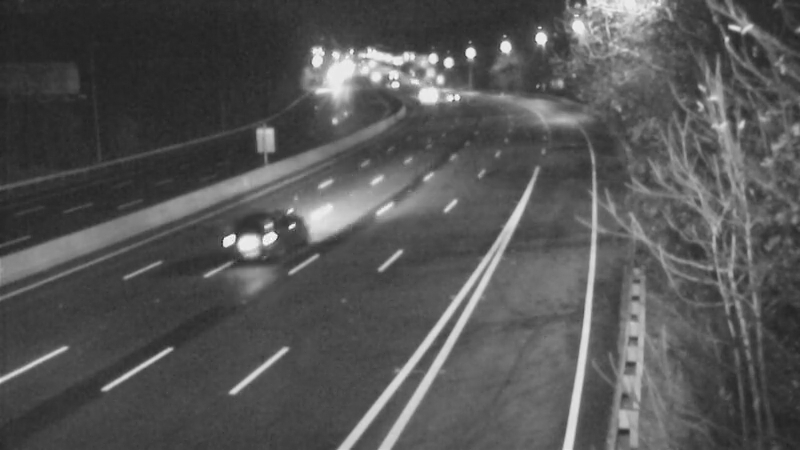vehicle: (221, 195, 301, 275), (369, 59, 419, 109), (397, 69, 447, 119), (431, 75, 481, 125)
